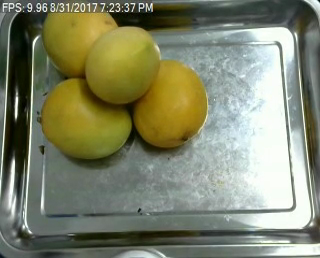Mango: (41, 77, 134, 160), (131, 59, 208, 148), (41, 0, 119, 77), (87, 26, 161, 104)
